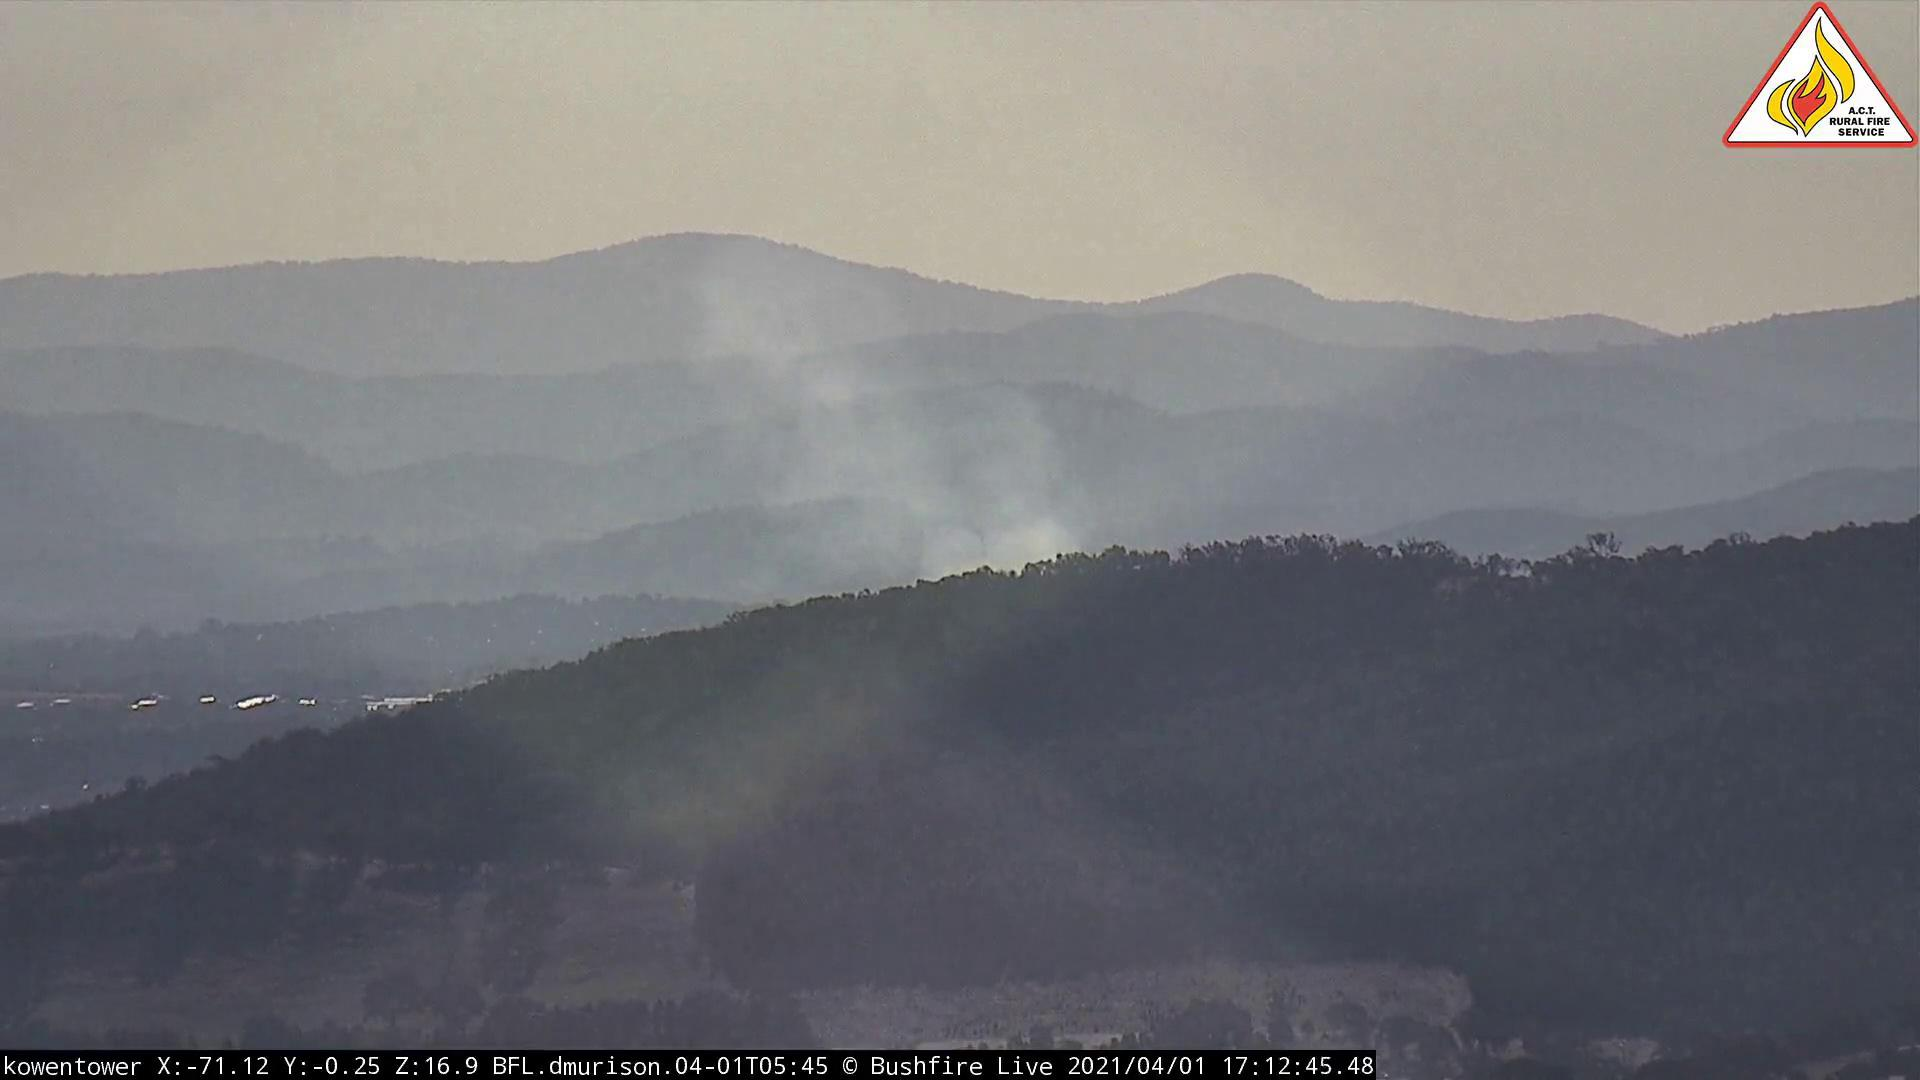Smoke: (632, 219, 1118, 625)
